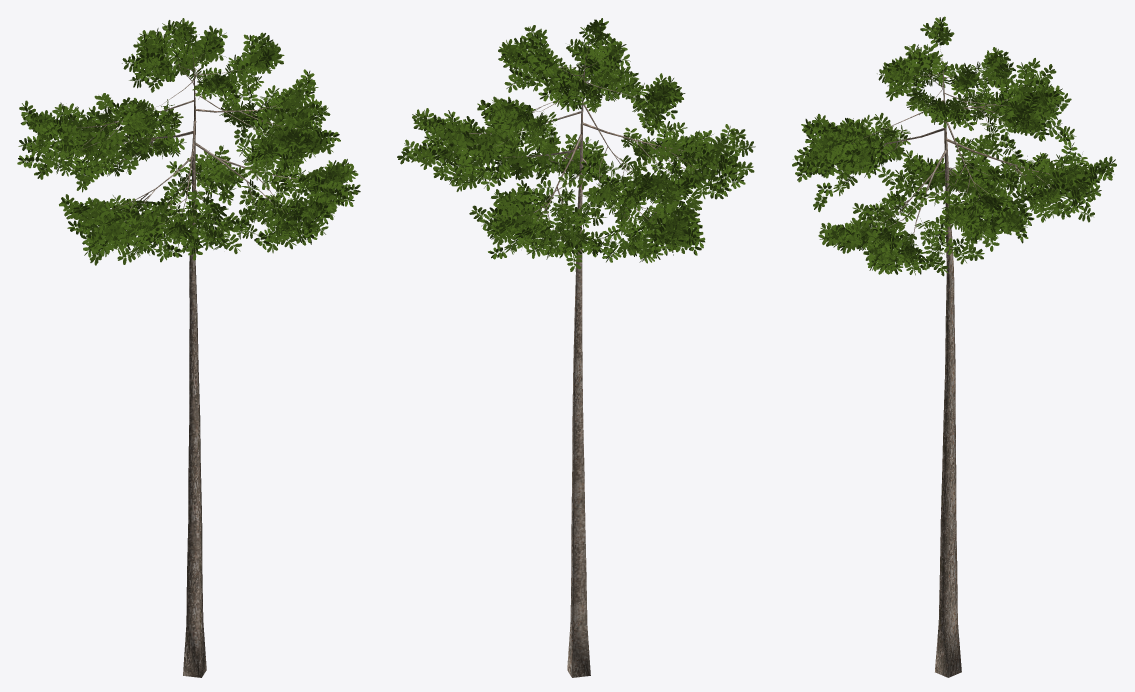
File: MerantiTree.fbx
3 views of the same model, side by side, from view 1: azimuth 30°, elevation 25°; view 2: azimuth 150°, elevation 25°; view 3: azimuth 270°, elevation 25° (orthographic).
Visible parts, largest first — view 1: MerantiTree; view 2: MerantiTree; view 3: MerantiTree.
Boxes of the visible parts, x1,y1,x2,y2 form: MerantiTree: (17, 18, 360, 677); MerantiTree: (397, 18, 755, 677); MerantiTree: (792, 16, 1116, 677).
Bounding box in the file's own units: 1940 × 4197 × 1941.
2 materials, 2 textured.
